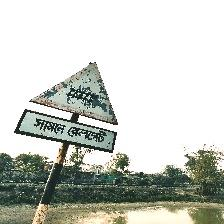Rail-crossing: (16, 62, 119, 153)
